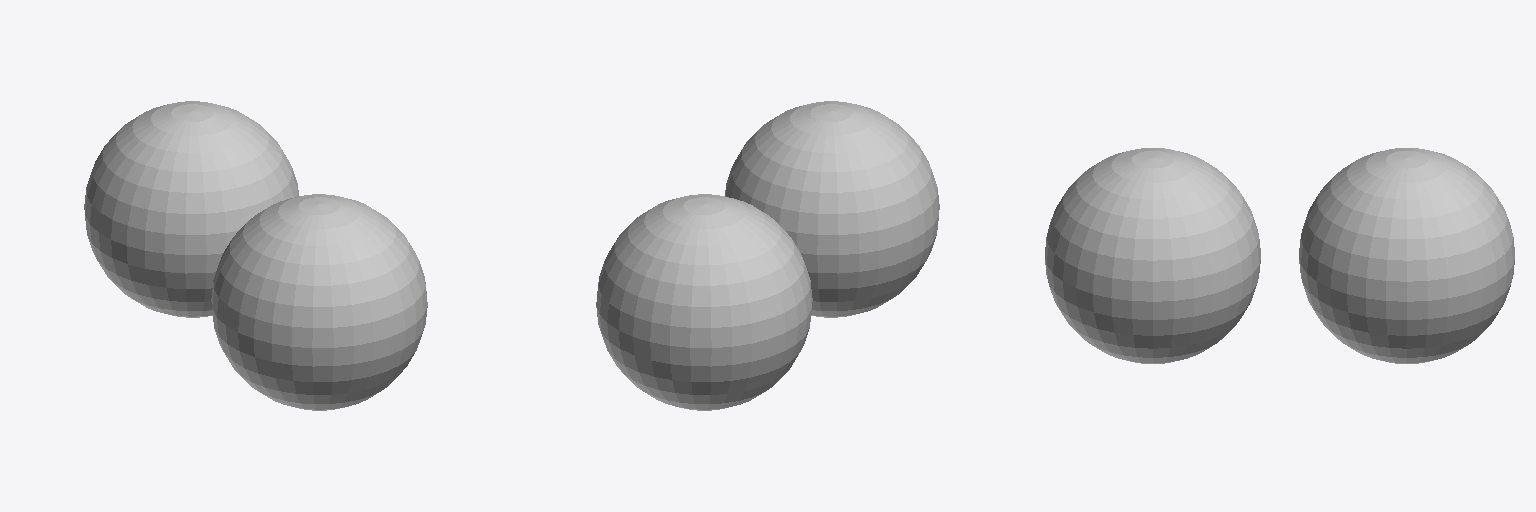
Rendered from balls.obj.
3 views of the same model, side by side, from view 1: azimuth 30°, elevation 25°; view 2: azimuth 150°, elevation 25°; view 3: azimuth 270°, elevation 25° (orthographic).
Parts seen in each view (by area): view 1: Sphere, Sphere.001; view 2: Sphere.001, Sphere; view 3: Sphere.001, Sphere.
Boxes of the visible parts, x1=… form: Sphere: x1=211, y1=194, x2=427, y2=410; Sphere.001: x1=84, y1=101, x2=298, y2=317; Sphere.001: x1=596, y1=194, x2=812, y2=410; Sphere: x1=725, y1=101, x2=939, y2=317; Sphere.001: x1=1299, y1=148, x2=1514, y2=363; Sphere: x1=1045, y1=148, x2=1260, y2=363.
Size of the model in its own units: 2 by 2 by 4.34.